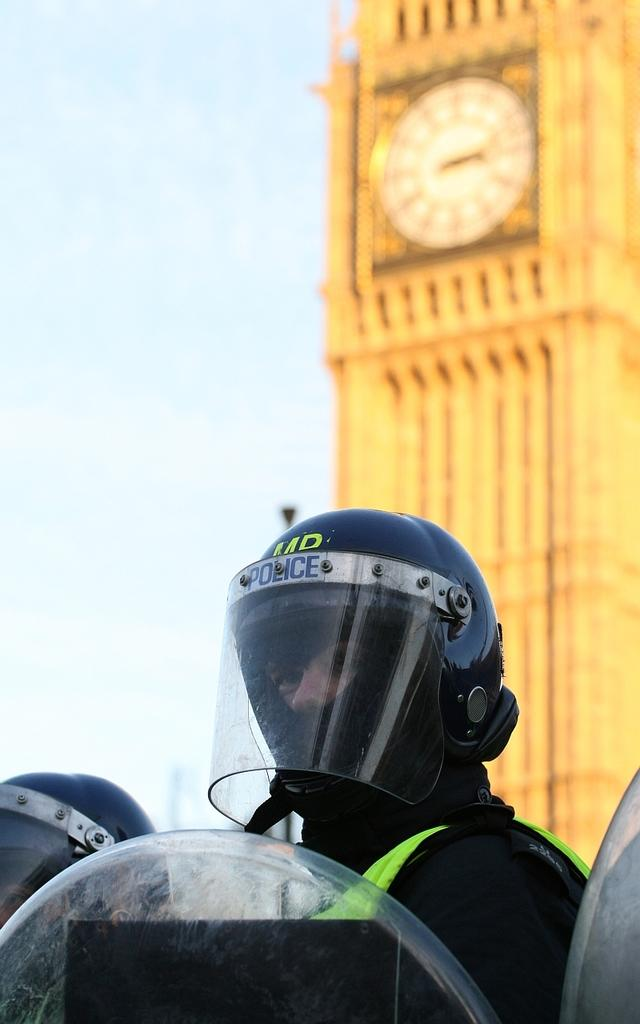helmet: (208, 508, 504, 831), (0, 771, 171, 1024), (173, 999, 175, 999)
